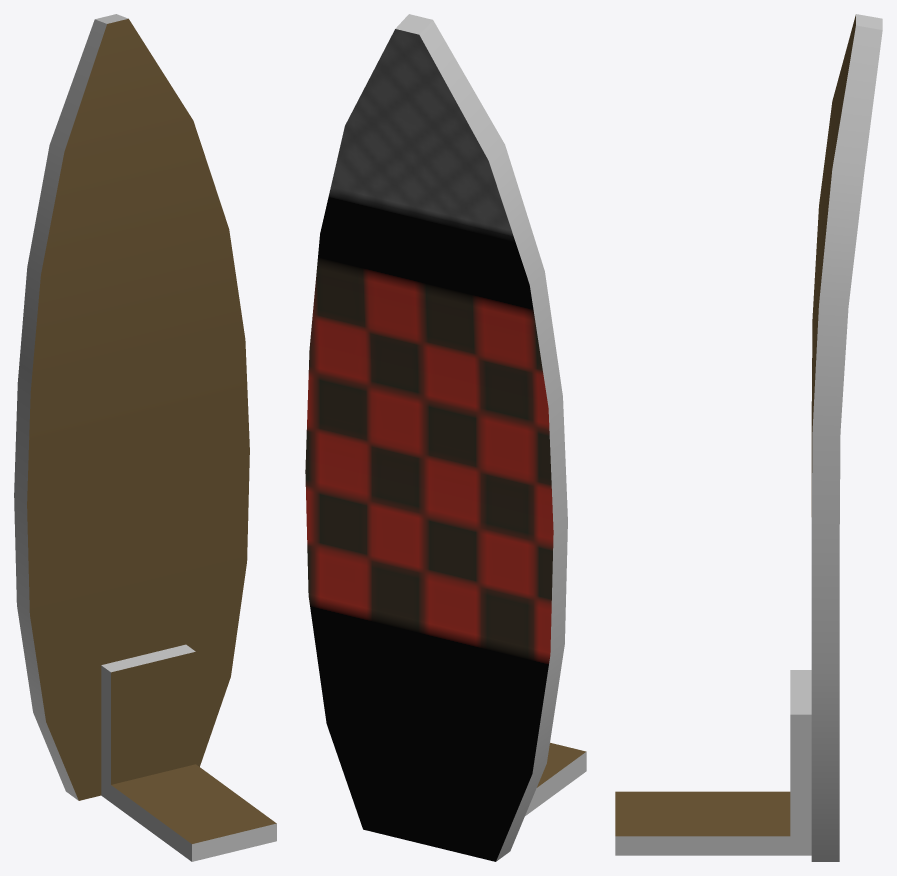
Rendered from SM_Surfboard_001.fbx.
3 views of the same model, side by side, from view 1: azimuth 30°, elevation 25°; view 2: azimuth 150°, elevation 25°; view 3: azimuth 270°, elevation 25° (orthographic). The views are drawn at different scales.
Parts seen in each view (by area): view 1: SM_Surfboard_001; view 2: SM_Surfboard_001; view 3: SM_Surfboard_001.
Boxes of the visible parts, x1,y1,x2,y2 form: SM_Surfboard_001: [14, 14, 276, 861]; SM_Surfboard_001: [305, 14, 586, 861]; SM_Surfboard_001: [615, 14, 882, 861].
Bounding box in the file's own units: 26.51 × 85.23 × 25.48.
